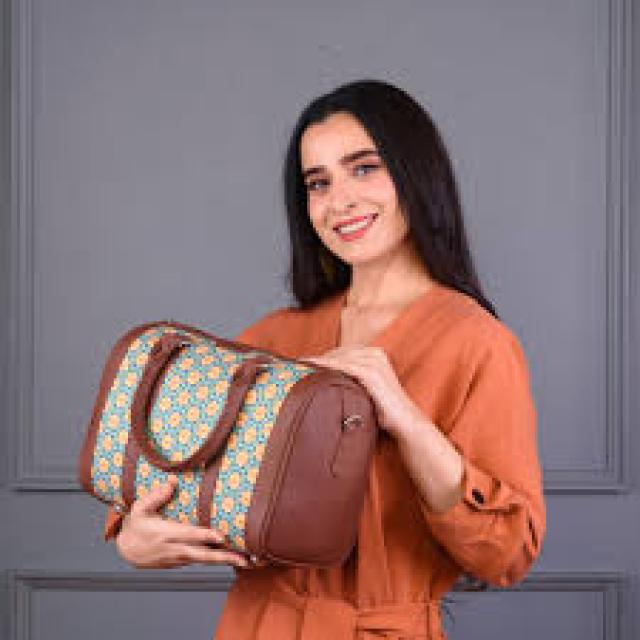handbag: (77, 318, 378, 569)
